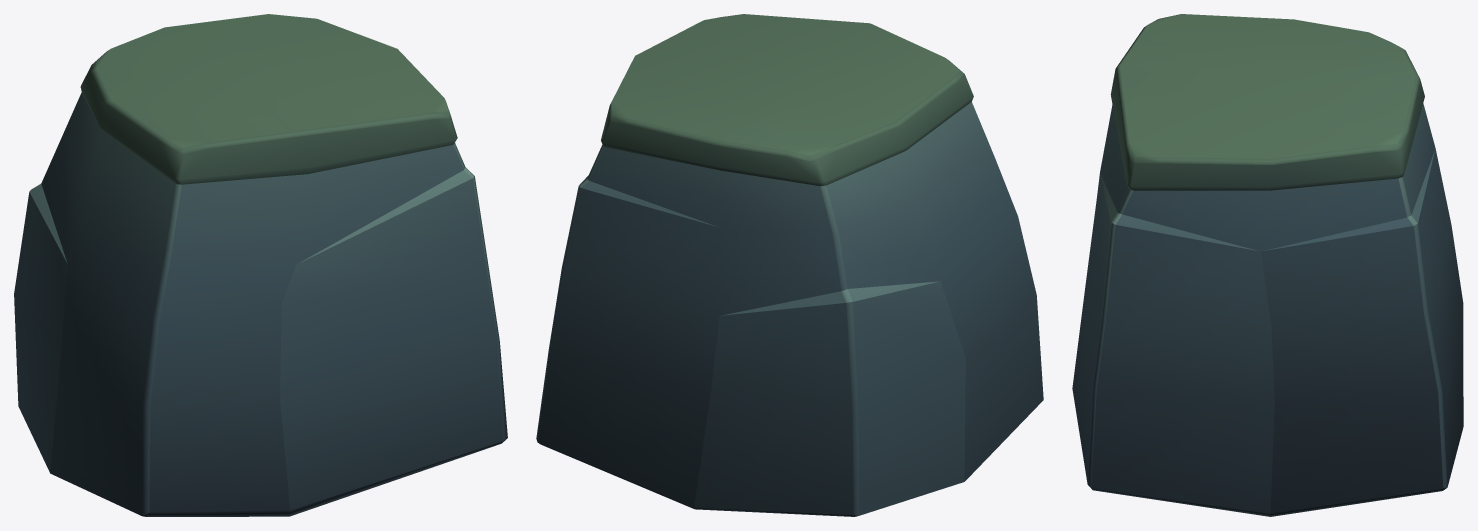
Rendered from rock_large_grass_05.fbx.
3 views of the same model, side by side, from view 1: azimuth 30°, elevation 25°; view 2: azimuth 150°, elevation 25°; view 3: azimuth 270°, elevation 25° (orthographic).
Parts seen in each view (by area): view 1: rock_large_grass_05; view 2: rock_large_grass_05; view 3: rock_large_grass_05.
Part boxes in pixels (x1,y1,x2,y2): rock_large_grass_05: (14,14,507,516); rock_large_grass_05: (536,14,1043,516); rock_large_grass_05: (1072,14,1463,516).
Bounding box in the file's own units: 1824 × 1736 × 1653.
